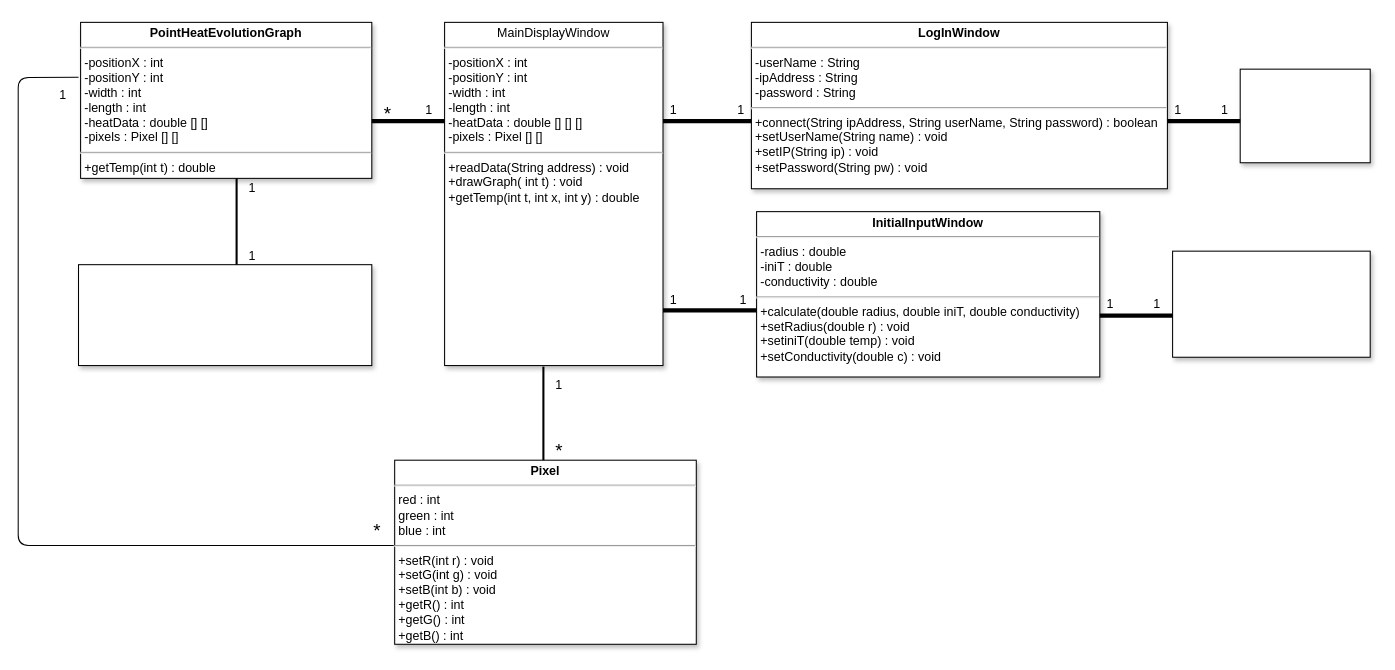
The diagram is 1395 pixels wide and 670 high, and some of its shapes have lost their labels. The shapes that lost their labels are listed below. From the top down, each one's centre as x and y in pixels, then its label:
At pixel 1305 117: "LoginController loginButton : Button".
At pixel 225 316: "MainWindowController createGraphButton : Button newCalculationButton : Button".
At pixel 1271 305: "Input Controller startCalculationButton : Button".
